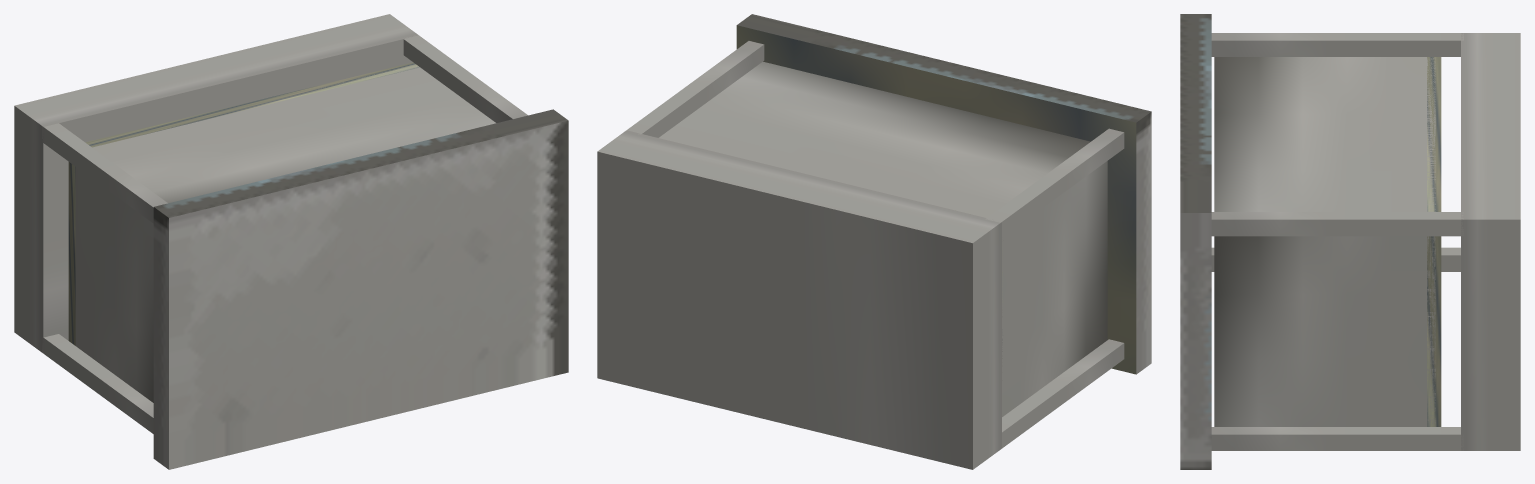
The model's file is pz_g019_fossoil_candy_stand.obj.
The picture shows the model from 3 angles, left to right: view 1: azimuth 30°, elevation 25°; view 2: azimuth 150°, elevation 25°; view 3: azimuth 270°, elevation 25°; orthographic projection. The views are drawn at different scales.
Parts seen in each view (by area): view 1: candy_canopy_top, case_glass_front, case_glass_right, candy_base_top, candy_base_front, candy_base_right, candy_canopy_front, case_post_right, case_post_front, candy_canopy_right, tray_front, tray_right; view 2: candy_base_bottom, case_glass_front, case_glass_right, candy_canopy_bottom, candy_base_front, candy_base_right, candy_canopy_front, case_post_right, case_post_front, candy_canopy_right; view 3: case_glass_left, case_glass_front, candy_base_left, case_post_left, candy_base_front, candy_canopy_left, candy_canopy_front, case_post_front, tray_left, tray_front.
Part boxes in pixels (bbox=[...]): candy_canopy_top: bbox=[169, 120, 568, 469]; case_glass_front: bbox=[92, 65, 495, 203]; case_glass_right: bbox=[75, 167, 153, 402]; candy_base_top: bbox=[43, 39, 412, 340]; candy_base_front: bbox=[15, 14, 418, 126]; candy_base_right: bbox=[14, 106, 43, 352]; candy_canopy_front: bbox=[154, 109, 568, 217]; case_post_right: bbox=[42, 39, 512, 433]; case_post_front: bbox=[44, 35, 527, 417]; candy_canopy_right: bbox=[153, 207, 168, 469]; tray_front: bbox=[85, 62, 419, 147]; tray_right: bbox=[68, 162, 75, 345]; candy_base_bottom: bbox=[597, 151, 972, 469]; case_glass_front: bbox=[659, 61, 1090, 217]; case_glass_right: bbox=[1002, 161, 1107, 416]; candy_canopy_bottom: bbox=[736, 25, 1136, 374]; candy_base_front: bbox=[597, 130, 999, 243]; candy_base_right: bbox=[973, 222, 1001, 469]; candy_canopy_front: bbox=[737, 14, 1151, 122]; case_post_right: bbox=[642, 45, 1124, 448]; case_post_front: bbox=[627, 41, 1123, 432]; candy_canopy_right: bbox=[1136, 112, 1151, 374]; case_glass_left: bbox=[1214, 236, 1435, 426]; case_glass_front: bbox=[1214, 57, 1435, 211]; candy_base_left: bbox=[1461, 219, 1520, 450]; case_post_left: bbox=[1211, 40, 1463, 450]; candy_base_front: bbox=[1461, 33, 1520, 219]; candy_canopy_left: bbox=[1180, 213, 1211, 469]; candy_canopy_front: bbox=[1180, 14, 1211, 212]; case_post_front: bbox=[1211, 33, 1463, 434]; tray_left: bbox=[1427, 236, 1441, 426]; tray_front: bbox=[1427, 57, 1441, 211].
Size of the model in its own units: 0.83 by 0.5 by 0.6.
Materials: 1 (1 with a texture image).
